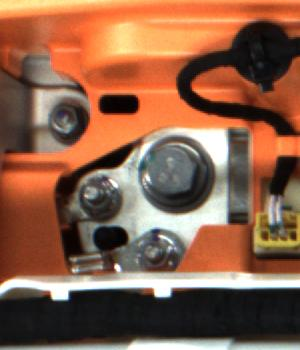nut_b: (136, 133, 221, 216)
